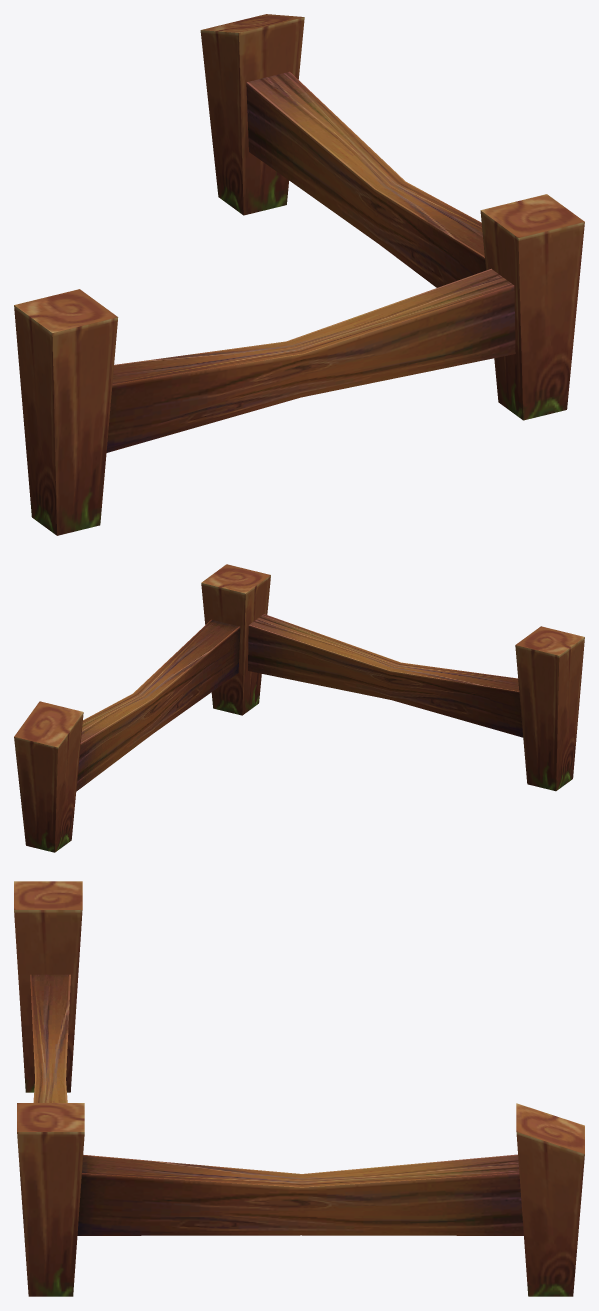
Rendered from langan.FBX.
3 views of the same model, one above another, from view 1: azimuth 30°, elevation 25°; view 2: azimuth 150°, elevation 25°; view 3: azimuth 270°, elevation 25° (orthographic). The views are drawn at different scales.
Visible parts, largest first — view 1: langan; view 2: langan; view 3: langan.
Boxes of the visible parts, box(x1,y1,x2,y2) form: langan: box(14, 14, 584, 535); langan: box(14, 564, 584, 852); langan: box(14, 881, 584, 1296).
Size of the model in its own units: 441 by 166 by 458.
